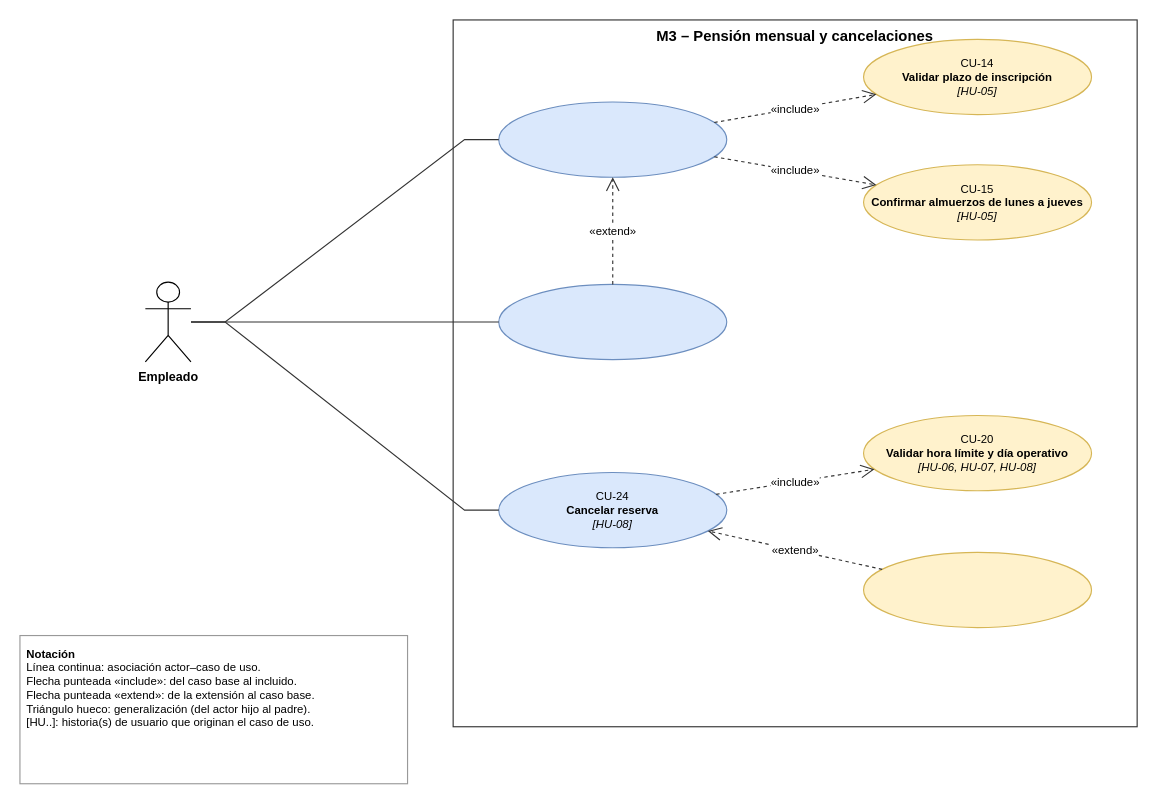
The diagram is 1157 pixels wide and 804 high, and some of its shapes have lost their labels. The shapes that lost their labels are listed below. From the top down, each one's centre as x and y in pixels, then its label:
(612,139): CU-13 Inscribirse en pensión mensual [HU-05]
(612,321): CU-16 Inscribir a un familiar [HU-05]
(977,589): CU-25 Aplicar regla del mínimo de 10 almuerzos [HU-08]
